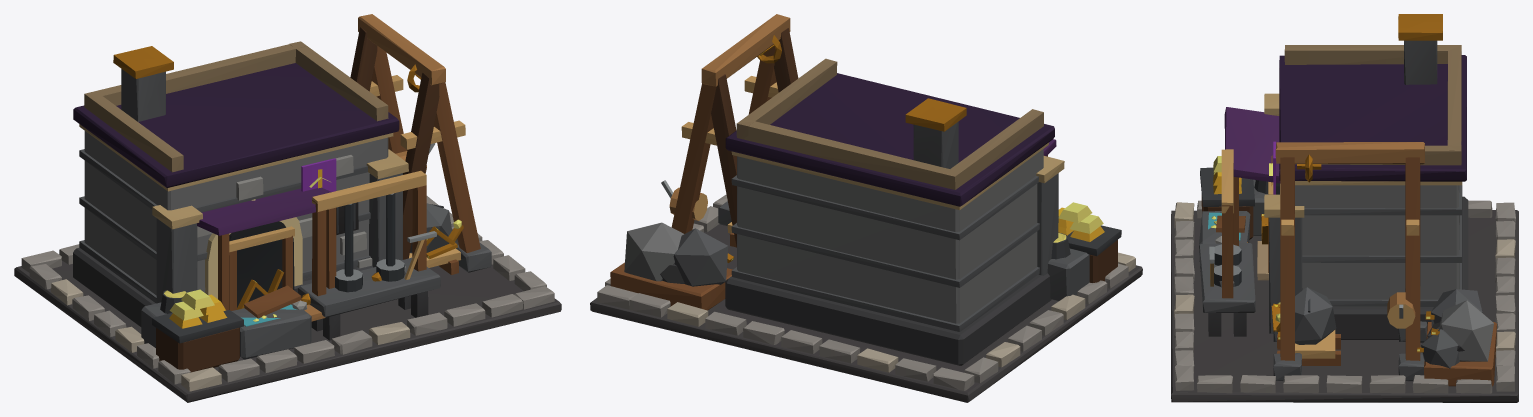
3 views of the same model, side by side, from view 1: azimuth 30°, elevation 25°; view 2: azimuth 150°, elevation 25°; view 3: azimuth 270°, elevation 25° (orthographic).
Visible parts, largest first — view 1: WK_CityGoldworks_LOD1_Balanced; view 2: WK_CityGoldworks_LOD1_Balanced; view 3: WK_CityGoldworks_LOD1_Balanced.
Part boxes in pixels (box(x1,y1,x2,y2)): WK_CityGoldworks_LOD1_Balanced: box(14, 14, 561, 402); WK_CityGoldworks_LOD1_Balanced: box(590, 14, 1142, 402); WK_CityGoldworks_LOD1_Balanced: box(1171, 14, 1518, 402).
Bounding box in the file's own units: 9 × 5.37 × 7.17.
